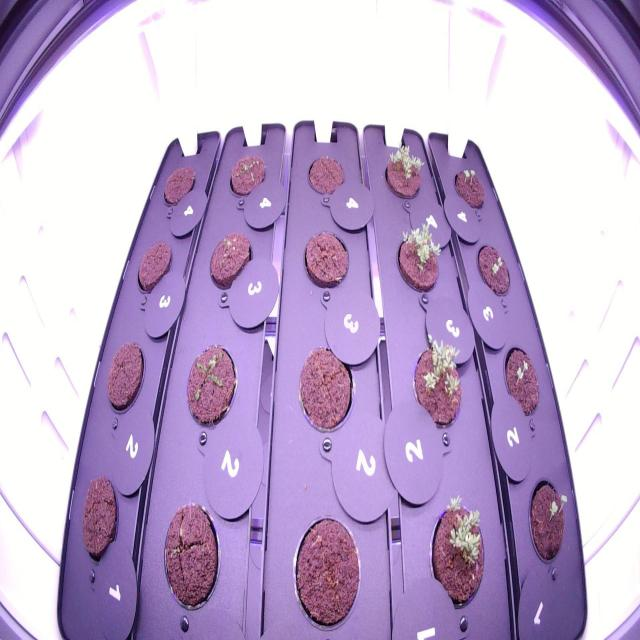germination: (422, 489, 493, 612), (406, 322, 470, 442), (182, 336, 241, 435), (390, 213, 447, 300), (524, 473, 572, 572), (377, 135, 434, 209), (497, 339, 544, 422), (471, 237, 516, 303), (450, 161, 490, 217)
pod: (286, 506, 366, 633), (156, 496, 226, 620), (290, 339, 359, 445), (74, 466, 124, 574), (98, 333, 151, 423), (202, 222, 258, 301), (297, 224, 353, 302), (132, 233, 176, 302), (298, 149, 352, 204), (222, 146, 271, 206), (154, 158, 202, 218)
